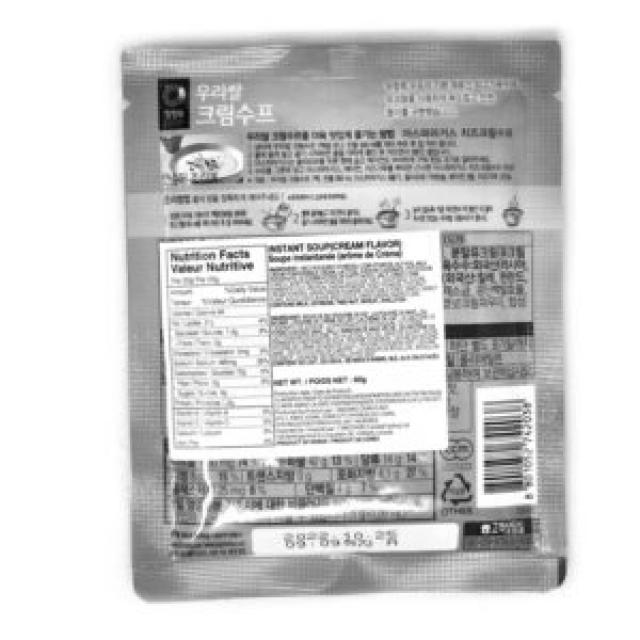Nutrition Label: (160, 242, 279, 456)
